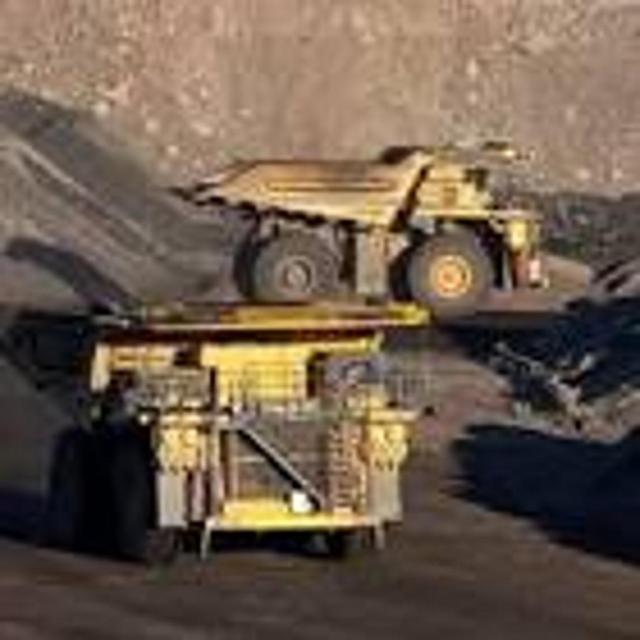dump_truck: (33, 283, 430, 578), (197, 119, 554, 312)
